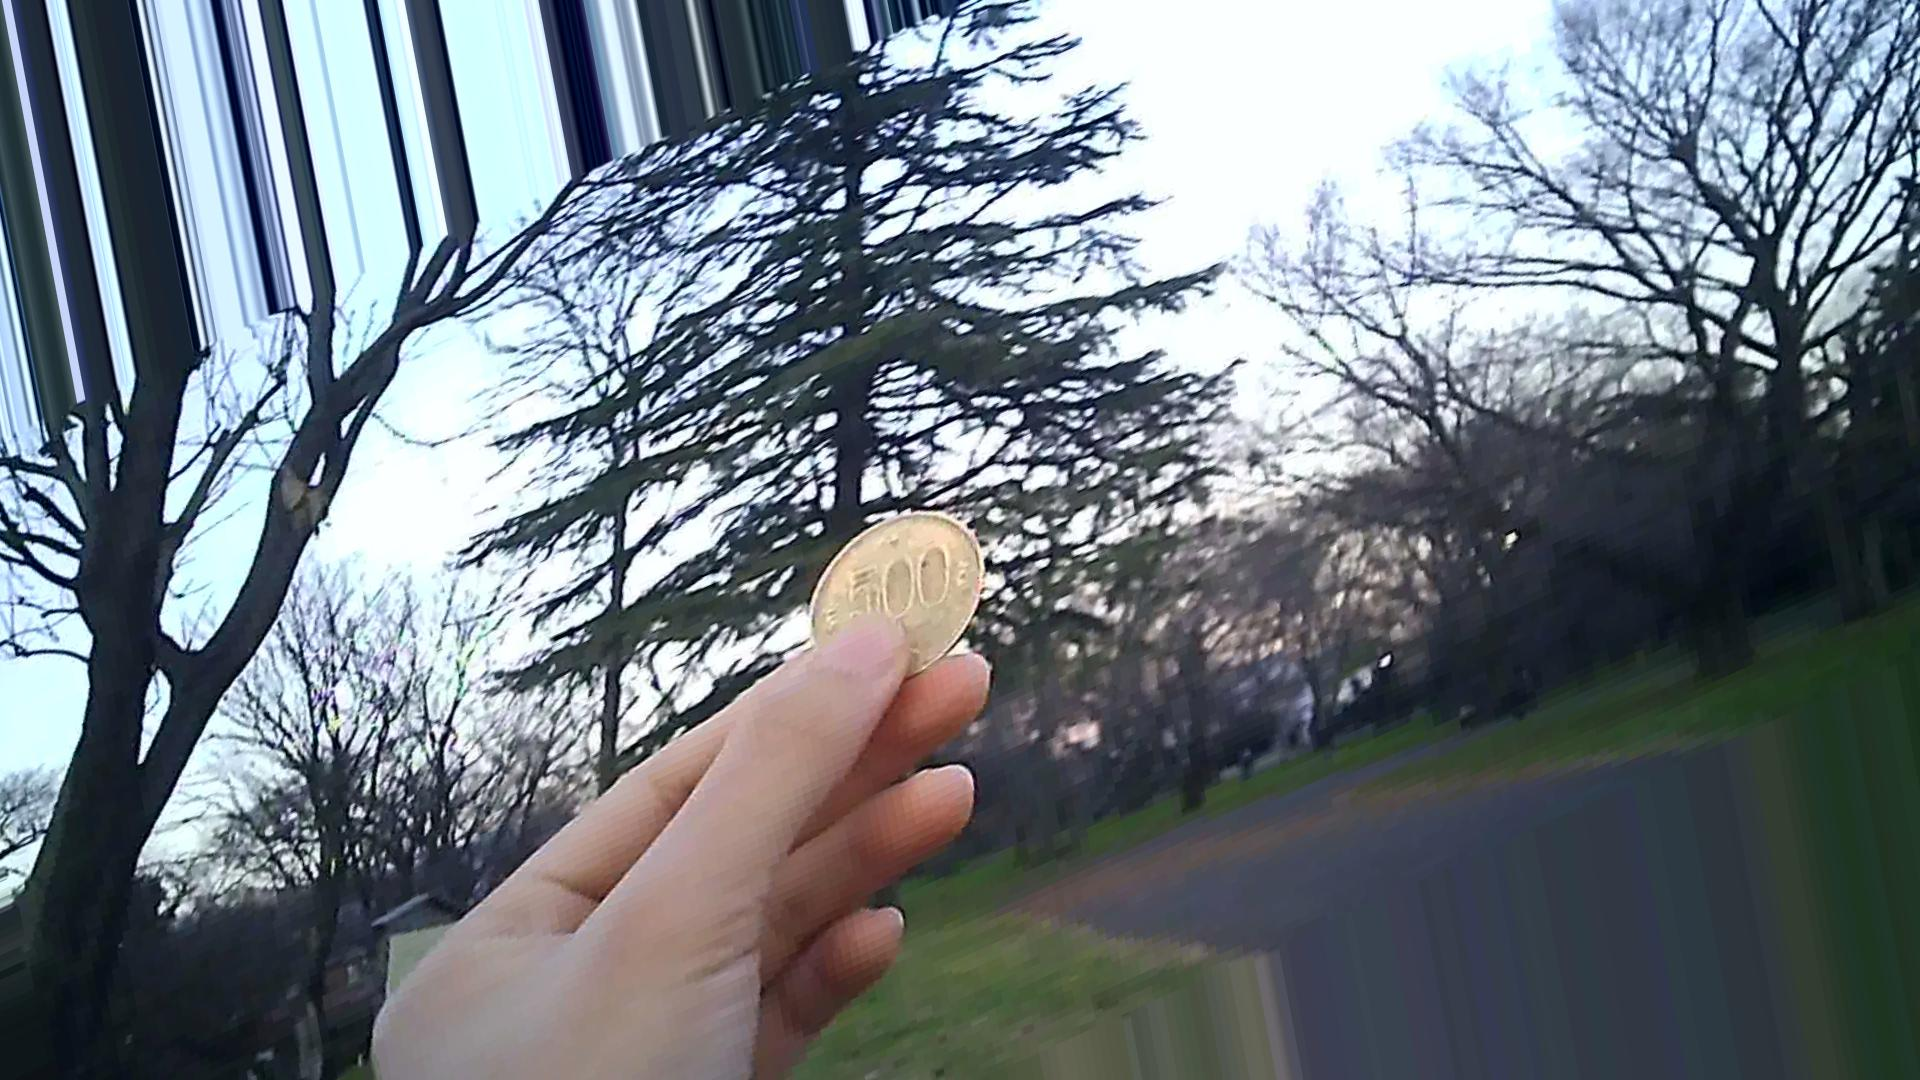500 Yen: (793, 502, 992, 678)
